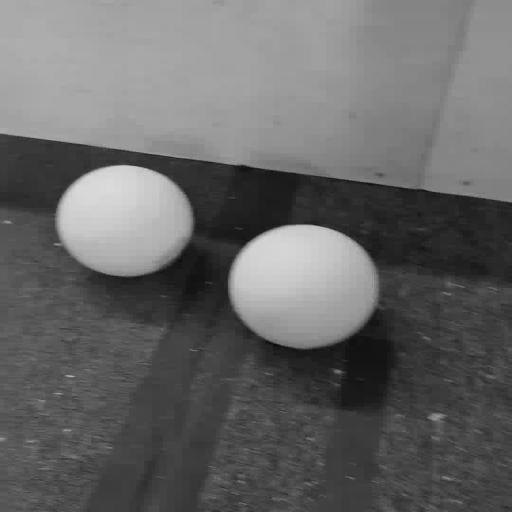fuel: (229, 225, 378, 349), (56, 165, 194, 276)
